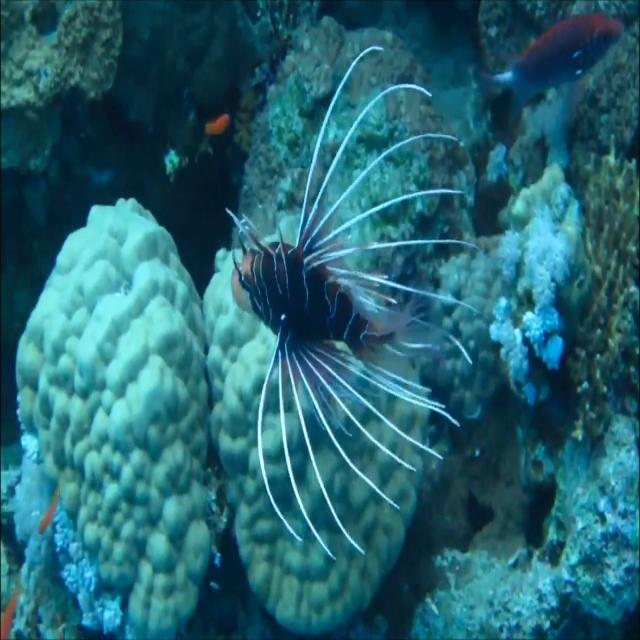Lionfish -Endangered- -Poisonous-: (224, 43, 461, 565)
